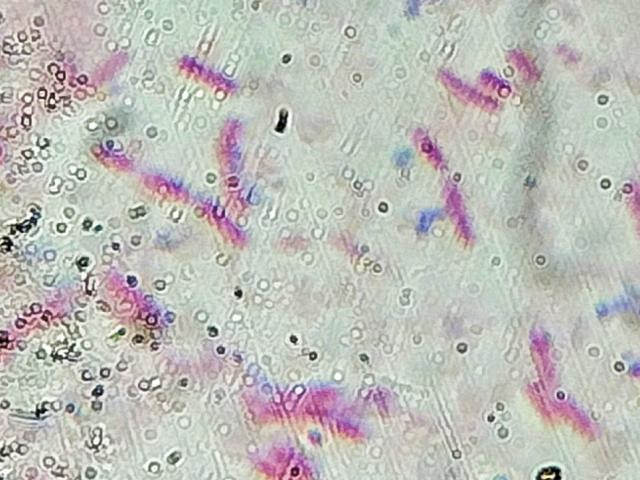E. coli: (169, 52, 240, 94), (135, 170, 206, 207), (441, 182, 481, 245), (103, 273, 154, 322), (202, 205, 247, 248), (413, 122, 453, 170), (263, 382, 329, 411), (556, 399, 609, 435), (215, 115, 244, 177), (73, 53, 127, 86), (371, 387, 414, 422), (511, 45, 545, 85), (529, 336, 556, 383), (448, 70, 484, 105), (92, 136, 131, 166), (318, 410, 363, 433), (485, 66, 512, 94), (531, 380, 550, 414)
